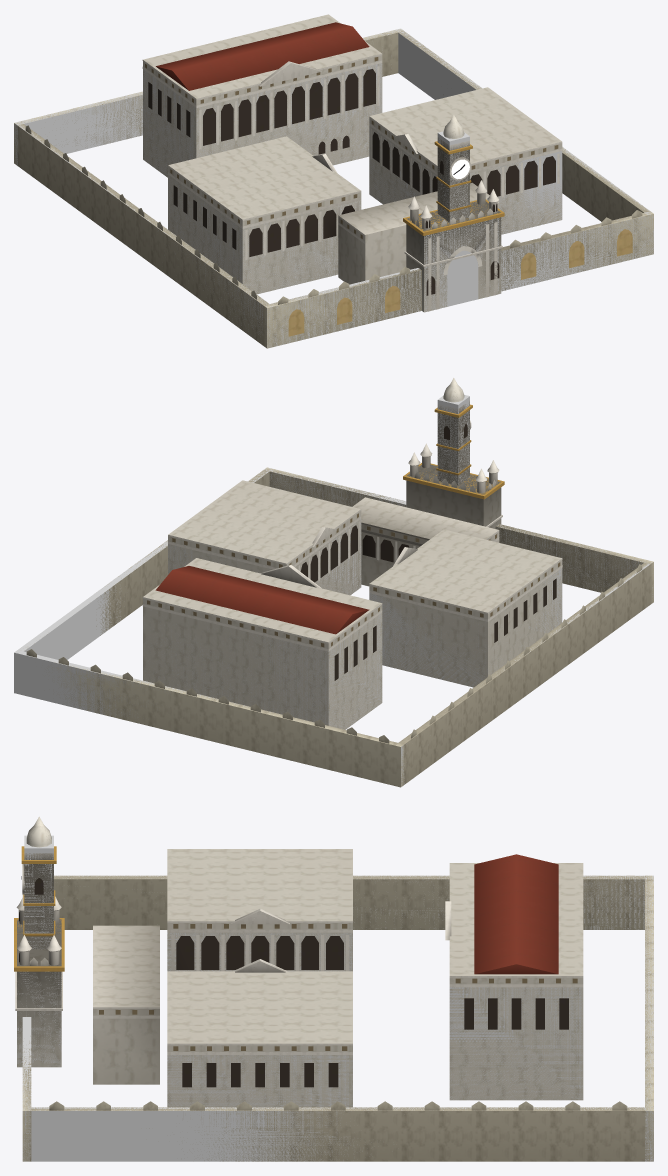
Rendered from chowmahalla.glb.
3 views of the same model, one above another, from view 1: azimuth 30°, elevation 25°; view 2: azimuth 150°, elevation 25°; view 3: azimuth 270°, elevation 25° (orthographic). The views are drawn at different scales.
Parts seen in each view (by area): view 1: chowmahalla_body, COL_chowmahalla; view 2: chowmahalla_body, COL_chowmahalla; view 3: chowmahalla_body, COL_chowmahalla.
Boxes of the visible parts, x1,y1,x2,y2 form: chowmahalla_body: (14,14,653,348); COL_chowmahalla: (14,28,653,347); chowmahalla_body: (24,378,653,787); COL_chowmahalla: (14,395,653,786); chowmahalla_body: (14,816,653,1161); COL_chowmahalla: (17,835,653,1161).
Bounding box in the file's own units: 150 × 67.6 × 172.
Materials: 11 (11 with a texture image).
